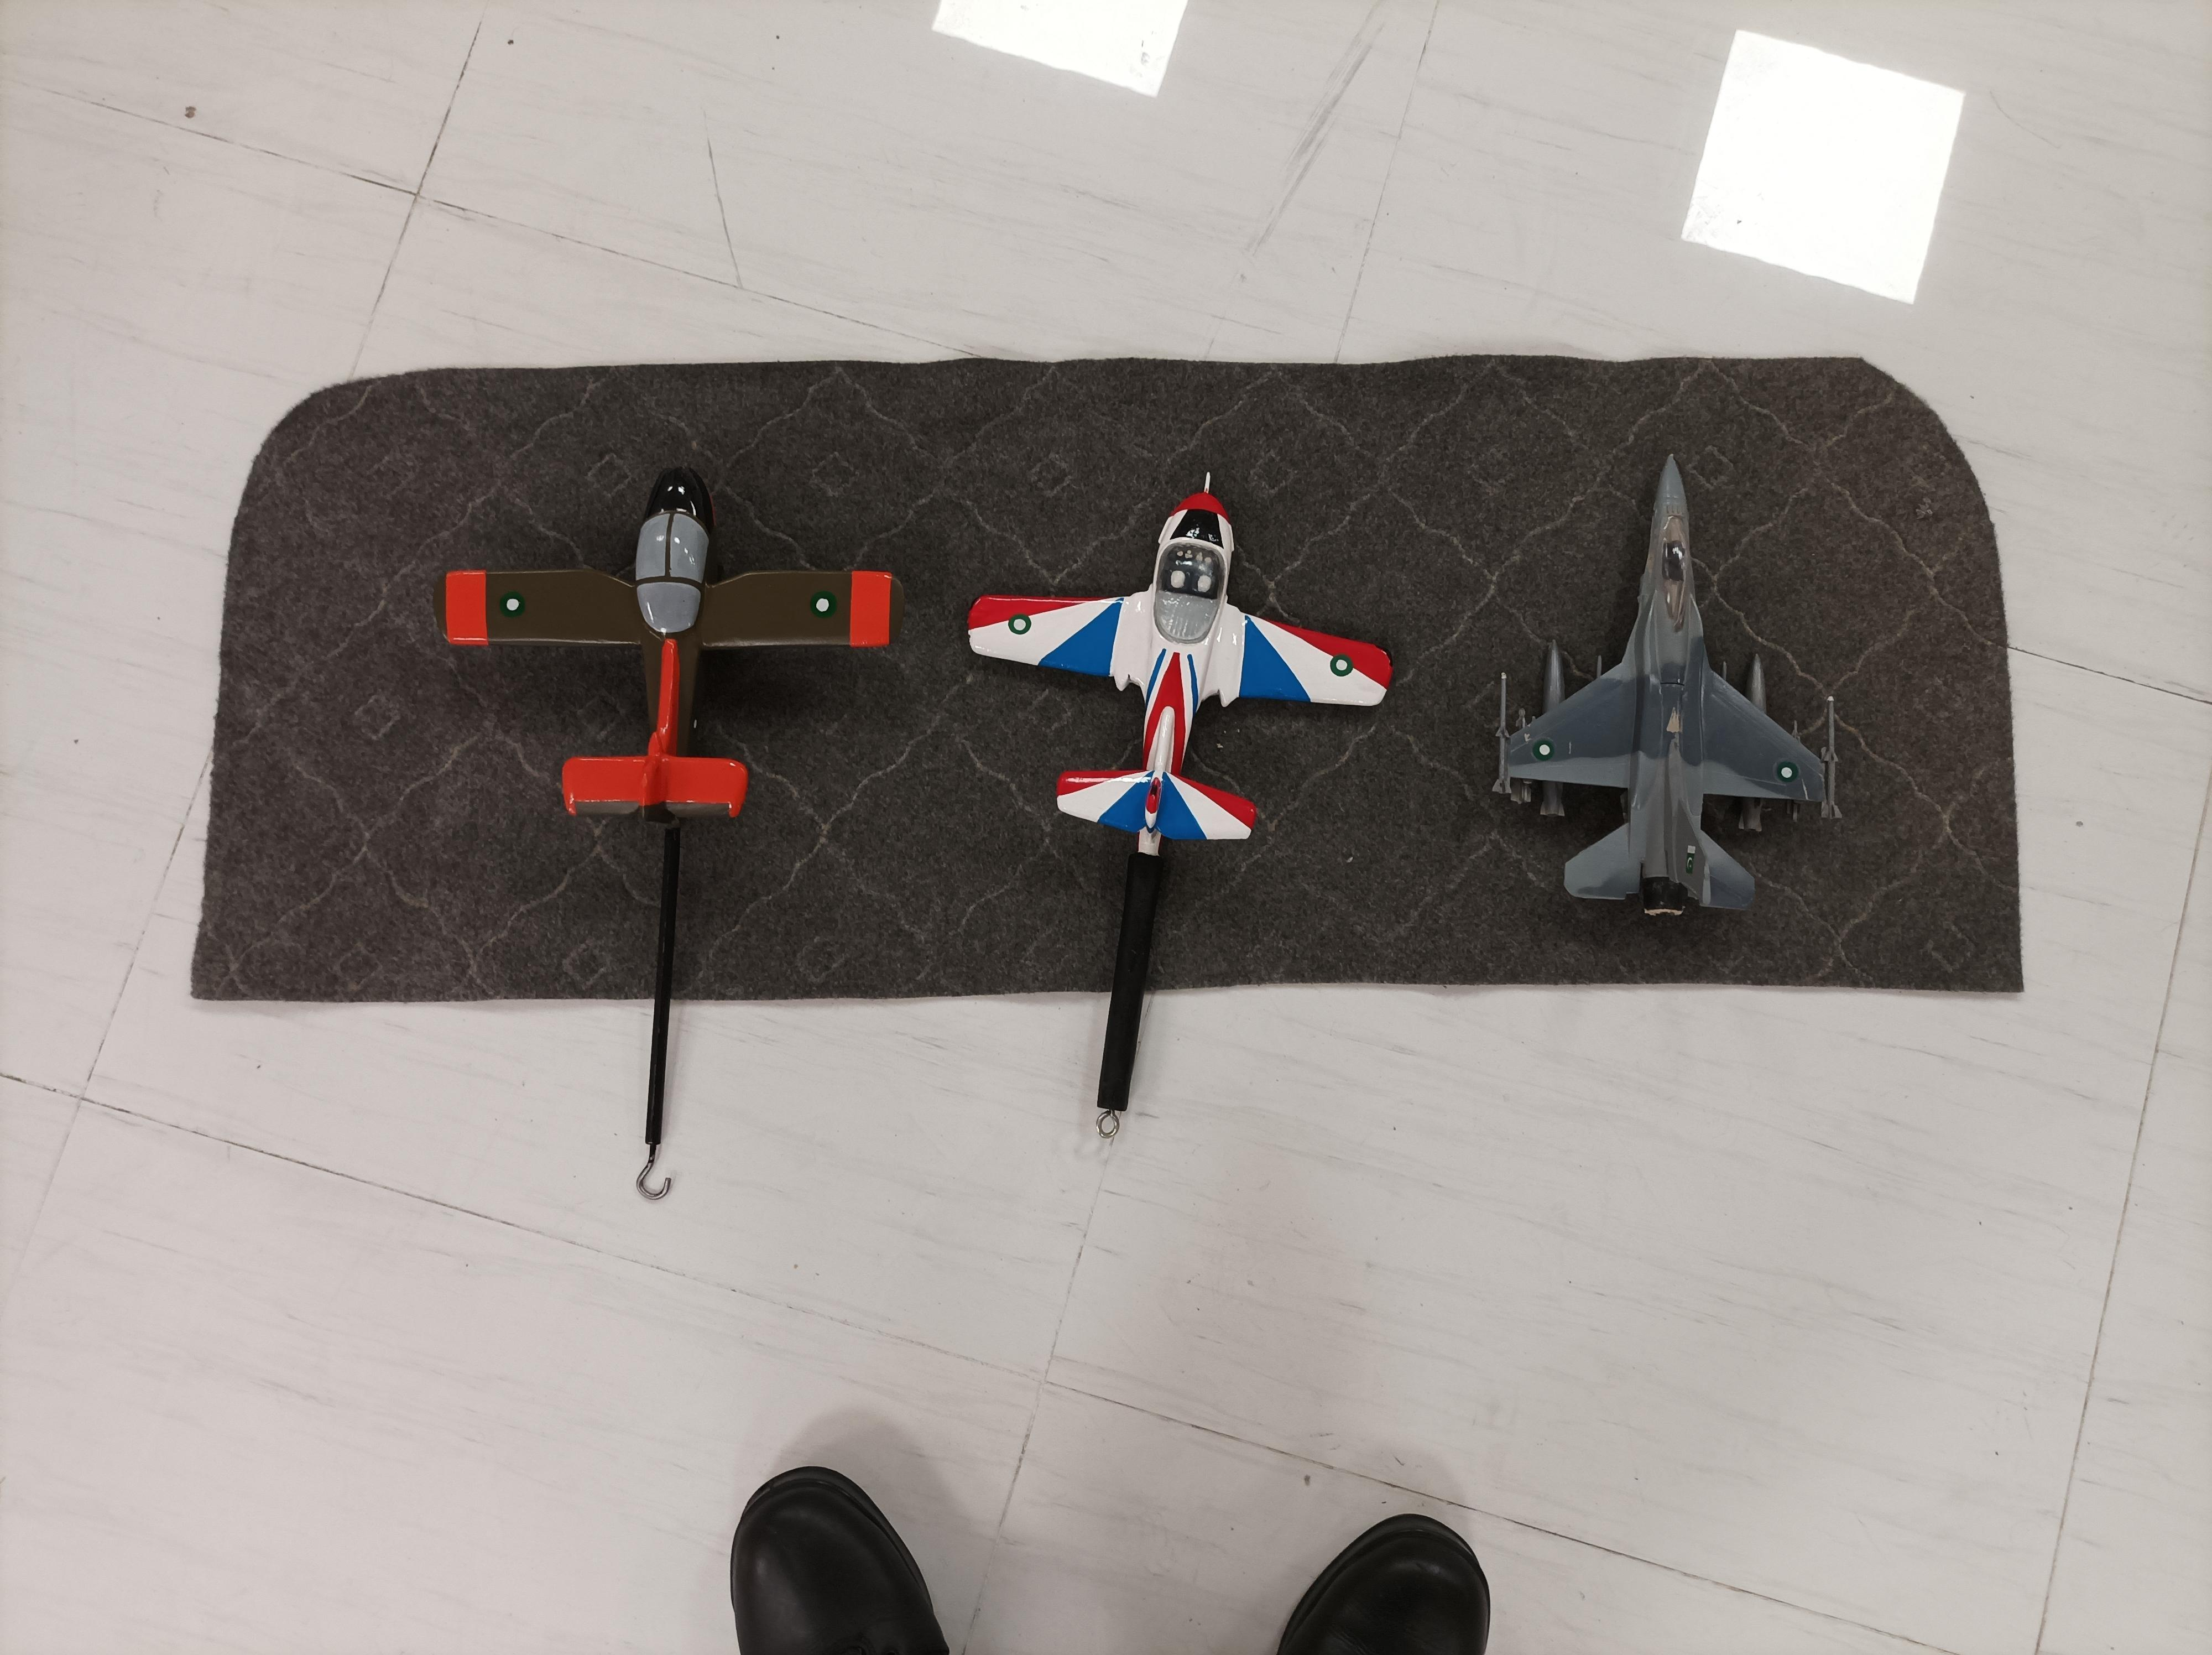Airplane: (1449, 426, 1869, 946), (937, 445, 1427, 888), (409, 445, 918, 852)
